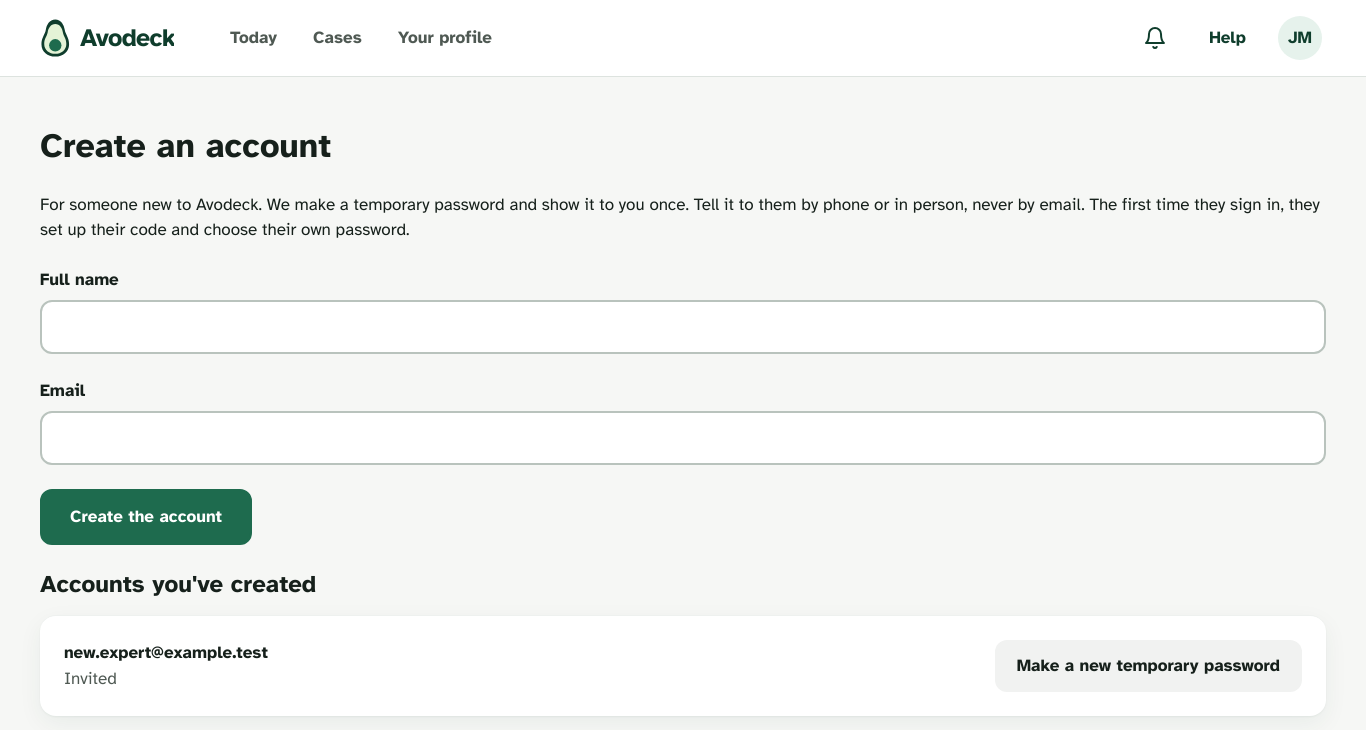
Scenario: a new password too soon asks to wait a minute
The image size is (1366, 730).
Click the button "Make a new temporary password" at [1148, 666], box [995,640,1302,692]
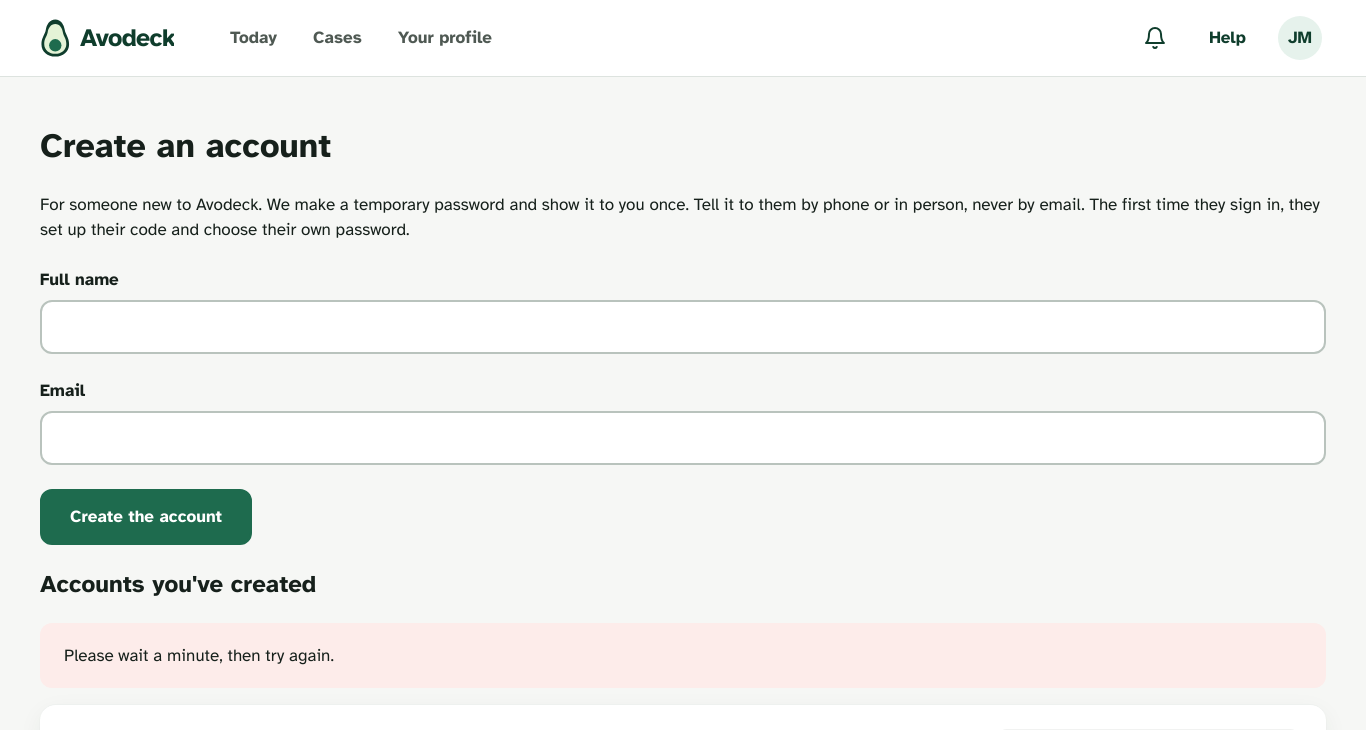
Expected: the text "Please wait a minute, then try again." is shown, [64,644,334,666]
